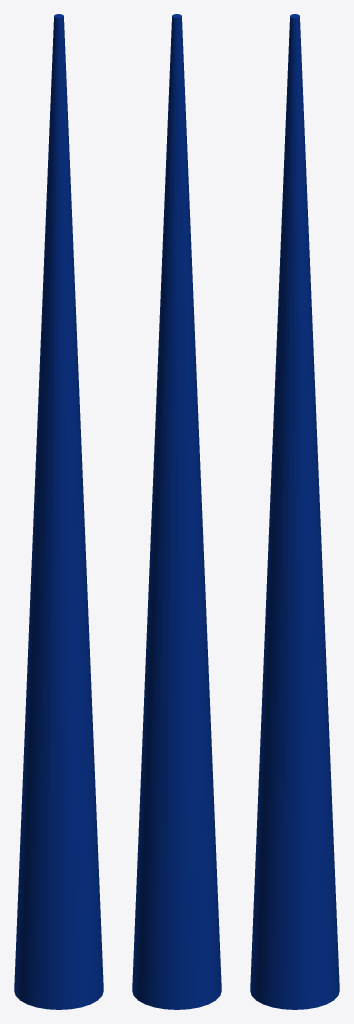
Rendered from bar3.dae.
3 renders of one model, left to right at view 1: azimuth 90°, elevation 25°; view 2: azimuth 150°, elevation 25°; view 3: azimuth 270°, elevation 25°, orthographic.
Parts seen in each view (by area): view 1: SketchUp; view 2: SketchUp; view 3: SketchUp.
Part boxes in pixels (bbox=[...]): SketchUp: bbox=[14, 14, 103, 1009]; SketchUp: bbox=[132, 14, 221, 1009]; SketchUp: bbox=[250, 14, 339, 1009].
Bounding box in the file's own units: 0.5 × 0.5 × 6.
1 material, 1 textured.
